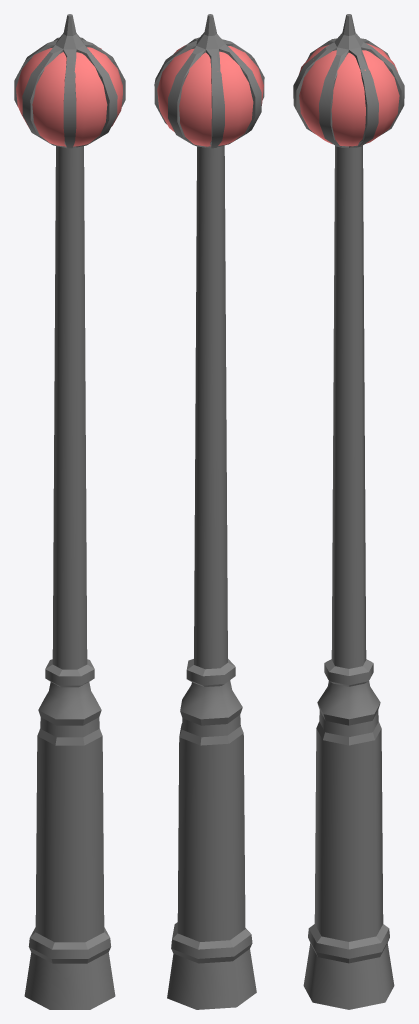
Rendered from LightPost.fbx.
3 renders of one model, left to right at view 1: azimuth 90°, elevation 25°; view 2: azimuth 150°, elevation 25°; view 3: azimuth 270°, elevation 25°, orthographic.
Visible parts, largest first — view 1: Cylinder001; view 2: Cylinder001; view 3: Cylinder001.
Boxes of the visible parts, left/top/right/bottom form: Cylinder001: left=14, top=14, right=125, bottom=1009; Cylinder001: left=154, top=14, right=264, bottom=1009; Cylinder001: left=293, top=14, right=404, bottom=1009.
Size of the model in its own units: 0.5219 by 5.14 by 0.5309.
